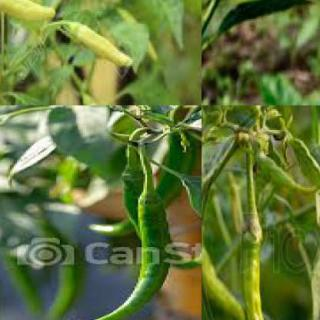green_chilli: (70, 193, 171, 319), (88, 132, 200, 234), (63, 17, 133, 69), (239, 228, 279, 319), (202, 244, 248, 319), (122, 166, 145, 239), (0, 0, 57, 26)
